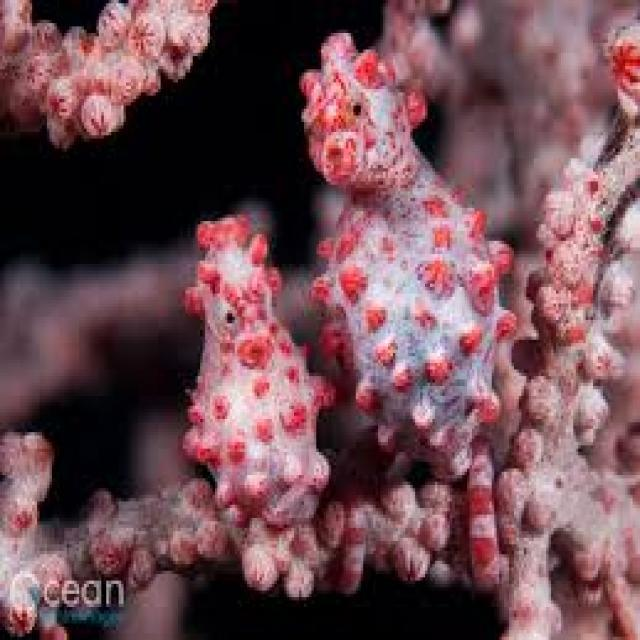SeaHorse: (299, 33, 512, 591), (180, 214, 336, 518)
